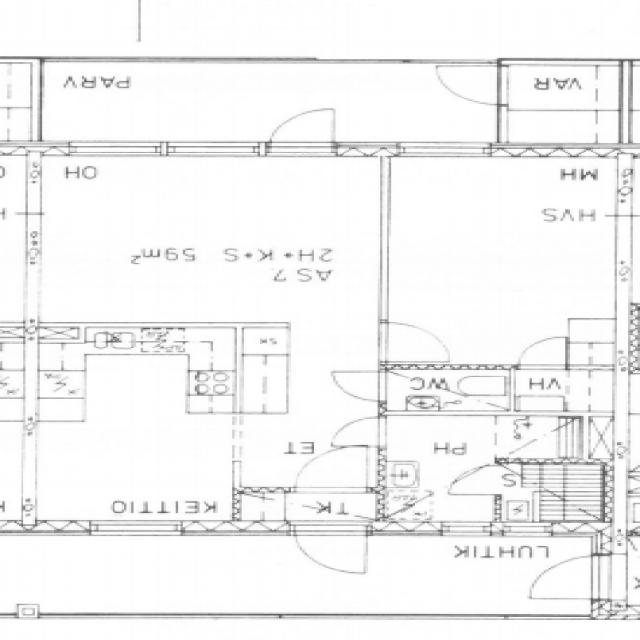door: (28, 154, 378, 327), (292, 520, 370, 577), (289, 444, 373, 496), (264, 104, 343, 157), (379, 317, 455, 367), (433, 62, 511, 108), (528, 554, 598, 604), (512, 335, 570, 374), (326, 368, 390, 403), (328, 414, 387, 449), (445, 465, 502, 499)
window: (160, 139, 266, 160), (393, 138, 493, 160), (83, 520, 186, 540), (63, 139, 168, 158), (438, 522, 496, 538)
zone: (382, 157, 624, 368), (26, 343, 239, 533), (498, 62, 628, 146), (498, 463, 610, 527), (381, 368, 514, 415), (512, 370, 614, 416), (382, 318, 468, 371)
